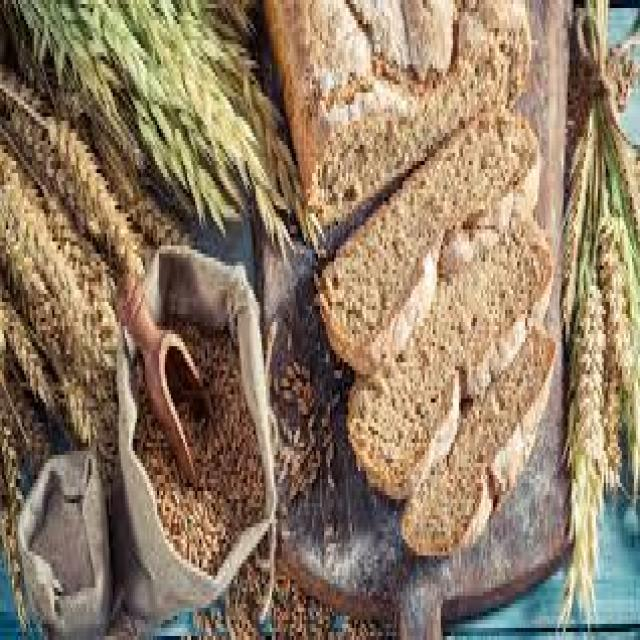organic waste: (0, 0, 322, 254), (312, 97, 537, 370), (342, 213, 552, 495), (263, 0, 527, 217), (564, 0, 638, 628), (398, 318, 556, 559), (0, 64, 141, 270), (0, 145, 103, 386), (62, 104, 190, 246), (4, 274, 99, 438), (30, 173, 117, 338), (0, 281, 48, 406), (32, 487, 89, 588), (0, 423, 26, 636), (0, 358, 48, 470), (169, 479, 240, 551), (74, 386, 117, 475), (205, 419, 254, 483), (286, 427, 318, 503), (318, 382, 340, 487), (212, 374, 242, 447), (276, 358, 314, 411), (242, 551, 272, 612), (270, 576, 300, 636), (200, 330, 233, 382), (223, 576, 250, 636), (276, 419, 300, 483), (181, 531, 217, 572), (145, 431, 165, 487), (157, 459, 177, 515), (133, 410, 153, 451), (298, 600, 316, 636), (340, 620, 374, 636), (183, 418, 199, 451), (192, 608, 214, 632), (183, 326, 203, 350), (196, 443, 212, 471), (177, 398, 191, 426)
